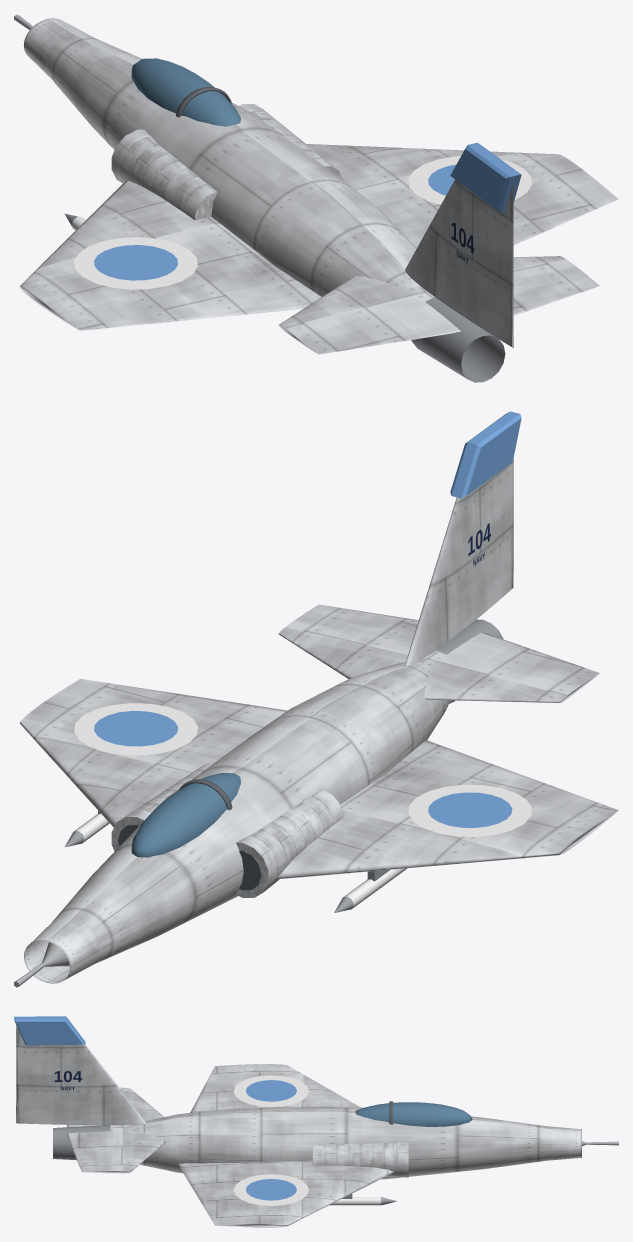
3 views of the same model, one above another, from view 1: azimuth 30°, elevation 25°; view 2: azimuth 150°, elevation 25°; view 3: azimuth 270°, elevation 25° (orthographic). The views are drawn at different scales.
Parts seen in each view (by area): view 1: detail (×5), part (×5); view 2: detail (×5), part (×7); view 3: detail (×5), part (×6).
Part boxes in pixels (x1,y1,x2,y2): detail (×5): [19, 18, 618, 354]; part (×5): [74, 58, 531, 382]; detail (×5): [19, 459, 618, 983]; part (×7): [74, 411, 531, 908]; detail (×5): [16, 1024, 581, 1227]; part (×6): [14, 1016, 472, 1205].
Bounding box in the file's own units: 9.2 × 4.23 × 14.75.
Materials: 14 (3 with a texture image).
